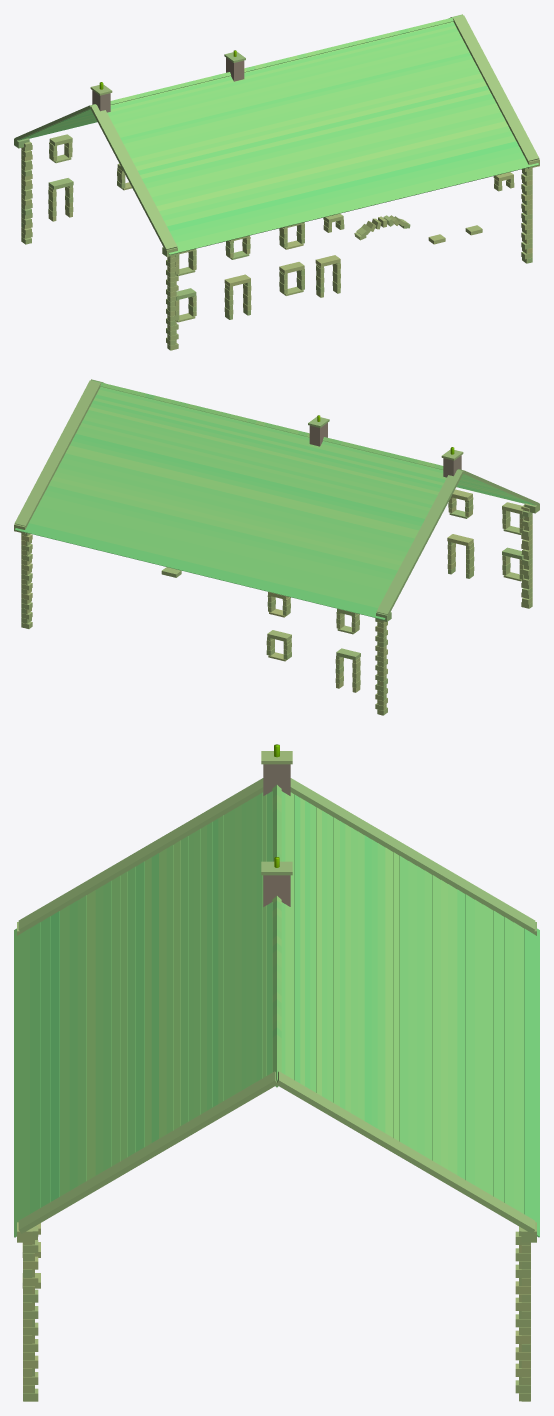
The model's file is SM_Bld_053_Stone.glb.
The picture shows the model from 3 angles, top to bottom: view 1: azimuth 30°, elevation 25°; view 2: azimuth 150°, elevation 25°; view 3: azimuth 270°, elevation 25°; orthographic projection. The views are drawn at different scales.
Parts seen in each view (by area): view 1: SM_Bld_053_Stone; view 2: SM_Bld_053_Stone; view 3: SM_Bld_053_Stone.
Boxes of the visible parts, x1,y1,x2,y2 form: SM_Bld_053_Stone: (14,14,539,350); SM_Bld_053_Stone: (14,379,539,715); SM_Bld_053_Stone: (14,744,539,1401).
Size of the model in its own units: 24.13 by 13.09 by 17.33.
